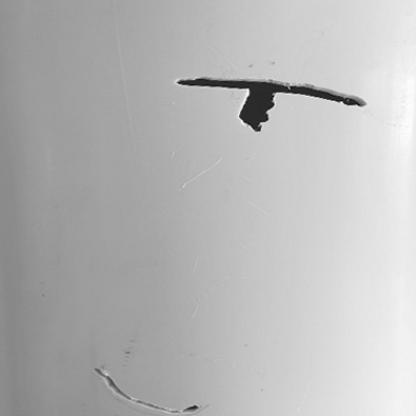fengxi: (171, 75, 367, 110), (92, 367, 202, 416)
kongdong: (239, 90, 278, 132)
